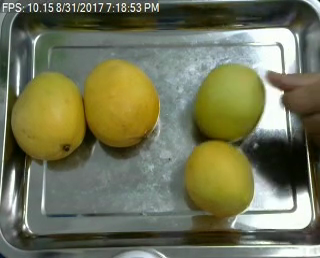Mango: (85, 60, 160, 148), (10, 71, 83, 160), (191, 63, 268, 143), (184, 141, 255, 217)
